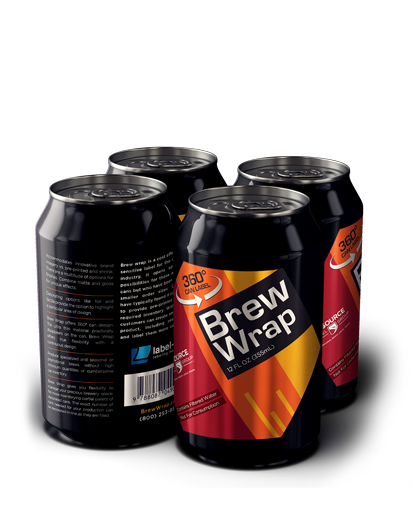beer can: (33, 173, 182, 448), (171, 185, 323, 453), (239, 158, 359, 411)
